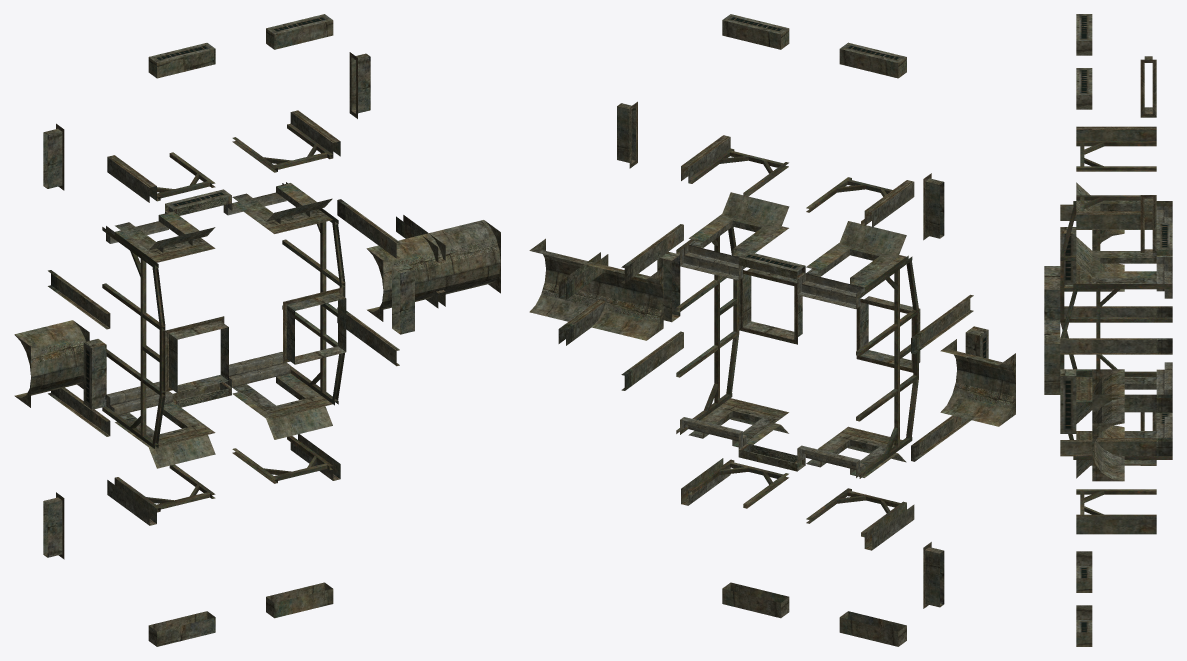
The model's file is tdr_d_room_a.obj.
3 views of the same model, side by side, from view 1: azimuth 30°, elevation 25°; view 2: azimuth 150°, elevation 25°; view 3: azimuth 270°, elevation 25° (orthographic). The views are drawn at different scales.
Parts seen in each view (by area): view 1: Arches_Cylinder.001, Doors_Cube.123, Plane.002_Plane.004, Pillars_(Wall)_Cube.001, Cube.040_Cube.049, Cube.036_Cube.125, Pillars_(Underarch).001_Cube.062, Stairs_Cube.011, Cube.034_Cube.046, Cube.009_Cube.004, Cube.010_Cube.038, Window.001_Cube.031 (+11 smaller); view 2: Arches_Cylinder.001, Doors_Cube.123, Stairs_Cube.011, Pillars_(Wall)_Cube.001, Plane.002_Plane.004, Cube.036_Cube.125, Cube.040_Cube.049, Pillars_(Underarch).001_Cube.062, Cube.034_Cube.046, Cube.010_Cube.038, Pillars_(Underarch)_Cube.006, Cube.009_Cube.004 (+10 smaller); view 3: Pillars_(Underarch).001_Cube.062, Pillars_(Wall)_Cube.001, Arches_Cylinder.001, Doors_Cube.123, Cube.036_Cube.125, Pillars_(Underarch)_Cube.006, Cube.040_Cube.049, Plane.002_Plane.004, Cube.034_Cube.046, Stairs_Cube.011, Cube.010_Cube.038, Window_Cube.014 (+9 smaller).
Part boxes in pixels (bbox=[...]): Arches_Cylinder.001: bbox=[14, 220, 500, 407]; Doors_Cube.123: bbox=[115, 183, 324, 446]; Plane.002_Plane.004: bbox=[148, 198, 332, 468]; Pillars_(Wall)_Cube.001: bbox=[48, 199, 399, 436]; Cube.040_Cube.049: bbox=[102, 227, 165, 448]; Cube.036_Cube.125: bbox=[115, 123, 332, 512]; Pillars_(Underarch).001_Cube.062: bbox=[107, 110, 340, 525]; Stairs_Cube.011: bbox=[106, 183, 290, 415]; Cube.034_Cube.046: bbox=[282, 182, 345, 405]; Cube.009_Cube.004: bbox=[165, 316, 228, 393]; Cube.010_Cube.038: bbox=[283, 287, 346, 364]; Window.001_Cube.031: bbox=[83, 339, 106, 409]; Arches_Cylinder.001: bbox=[529, 238, 1015, 426]; Doors_Cube.123: bbox=[688, 214, 897, 477]; Stairs_Cube.011: bbox=[680, 245, 864, 477]; Pillars_(Wall)_Cube.001: bbox=[621, 224, 973, 461]; Plane.002_Plane.004: bbox=[722, 192, 906, 462]; Cube.036_Cube.125: bbox=[688, 148, 906, 537]; Cube.040_Cube.049: bbox=[856, 255, 918, 478]; Pillars_(Underarch).001_Cube.062: bbox=[681, 135, 914, 550]; Cube.034_Cube.046: bbox=[676, 226, 739, 434]; Cube.010_Cube.038: bbox=[739, 268, 802, 344]; Pillars_(Underarch)_Cube.006: bbox=[558, 252, 608, 345]; Cube.009_Cube.004: bbox=[856, 296, 920, 372]; Pillars_(Underarch).001_Cube.062: bbox=[1076, 126, 1156, 534]; Pillars_(Wall)_Cube.001: bbox=[1060, 204, 1172, 456]; Arches_Cylinder.001: bbox=[1092, 230, 1124, 481]; Doors_Cube.123: bbox=[1092, 200, 1156, 463]; Cube.036_Cube.125: bbox=[1076, 141, 1156, 516]; Pillars_(Underarch)_Cube.006: bbox=[1092, 394, 1172, 455]; Cube.040_Cube.049: bbox=[1060, 201, 1172, 376]; Plane.002_Plane.004: bbox=[1076, 182, 1092, 478]; Cube.034_Cube.046: bbox=[1060, 284, 1172, 459]; Stairs_Cube.011: bbox=[1156, 206, 1172, 437]; Cube.010_Cube.038: bbox=[1044, 320, 1060, 394]; Window_Cube.014: bbox=[1060, 369, 1076, 433].
Bounding box in the file's own units: 8192 × 9728 × 2048.
11 materials, 11 textured.
